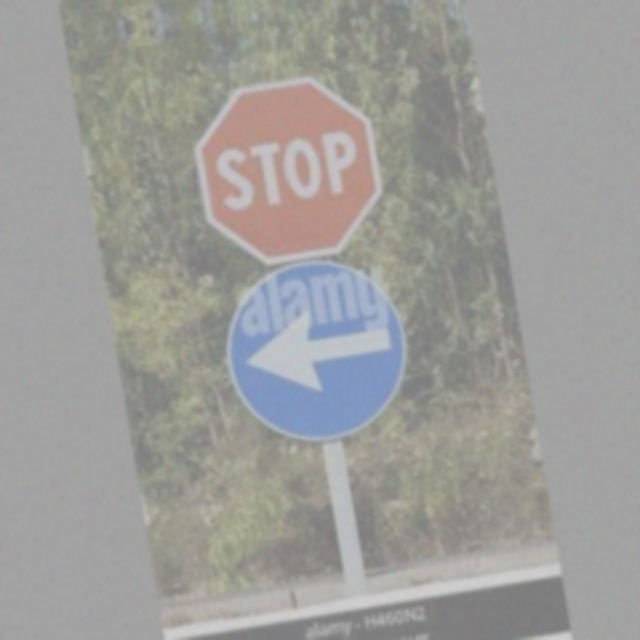Compulsory_Turn_Left: (220, 241, 423, 454)
